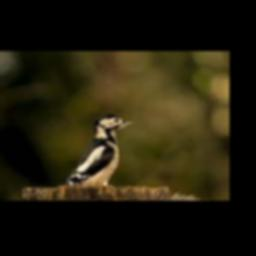Woodpecker: (65, 115, 135, 186)
